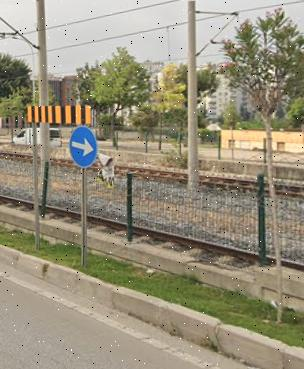turnright: (69, 128, 96, 164)
